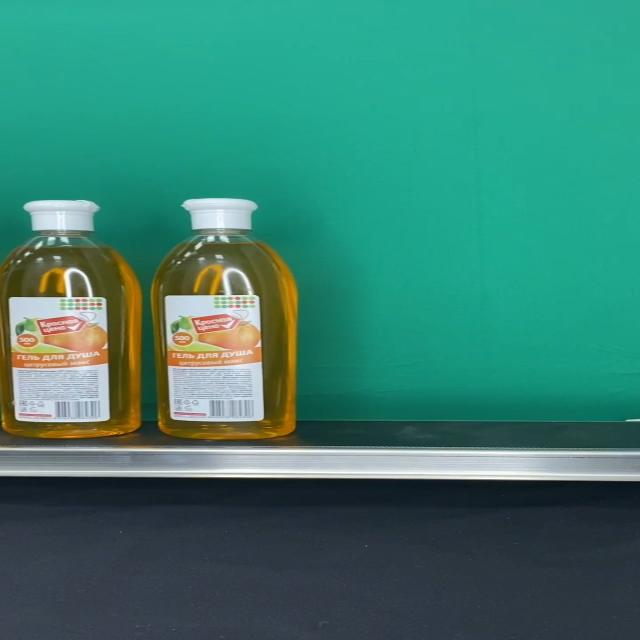Bottle: (151, 198, 299, 440), (0, 199, 142, 438)
Cap: (181, 198, 259, 230), (24, 200, 101, 232)
